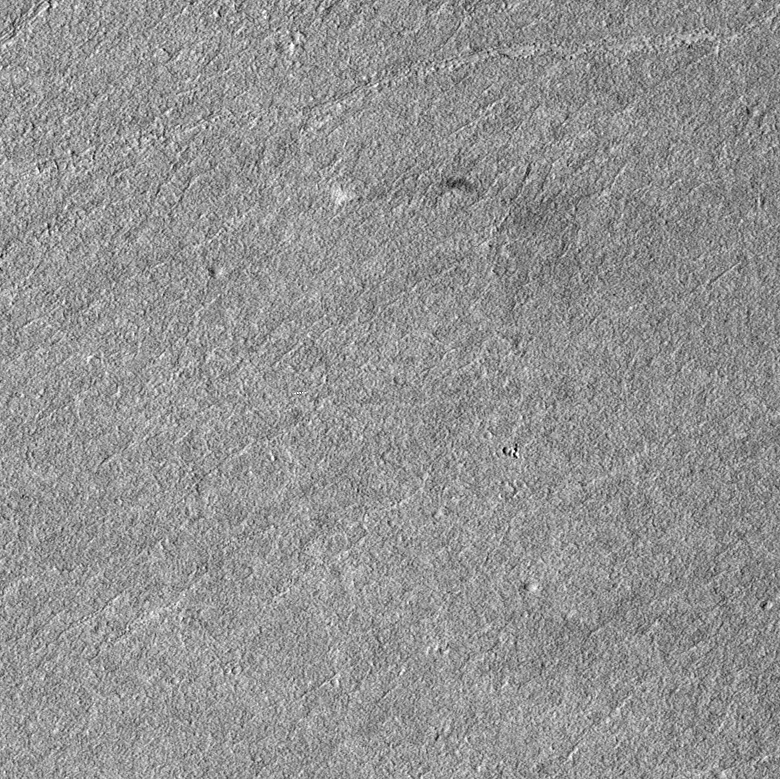dust_devil: (334, 173, 476, 206)
